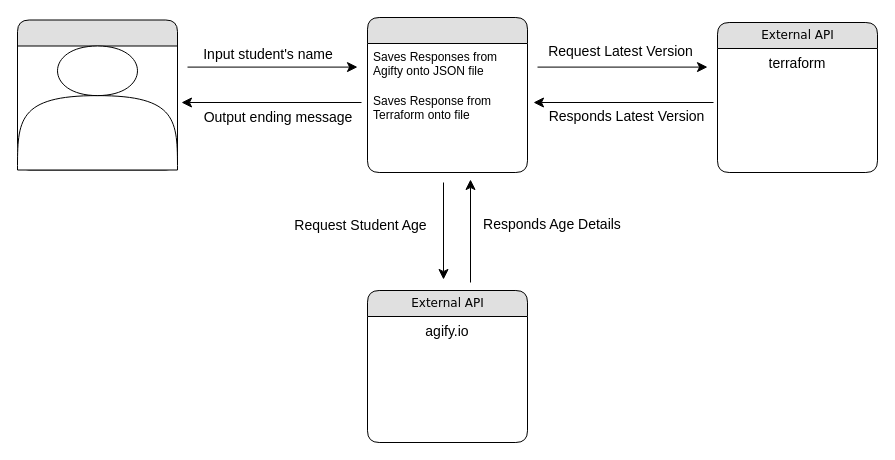
The diagram is 895 pixels wide and 460 high, and some of its shapes have lost their labels. The shapes that lost their labels are listed below. From the top down, each one's box as (x1, y1, x2, y2) in pixels, then its label:
(16, 19, 178, 170): User/Student
(366, 16, 528, 172): Bash
